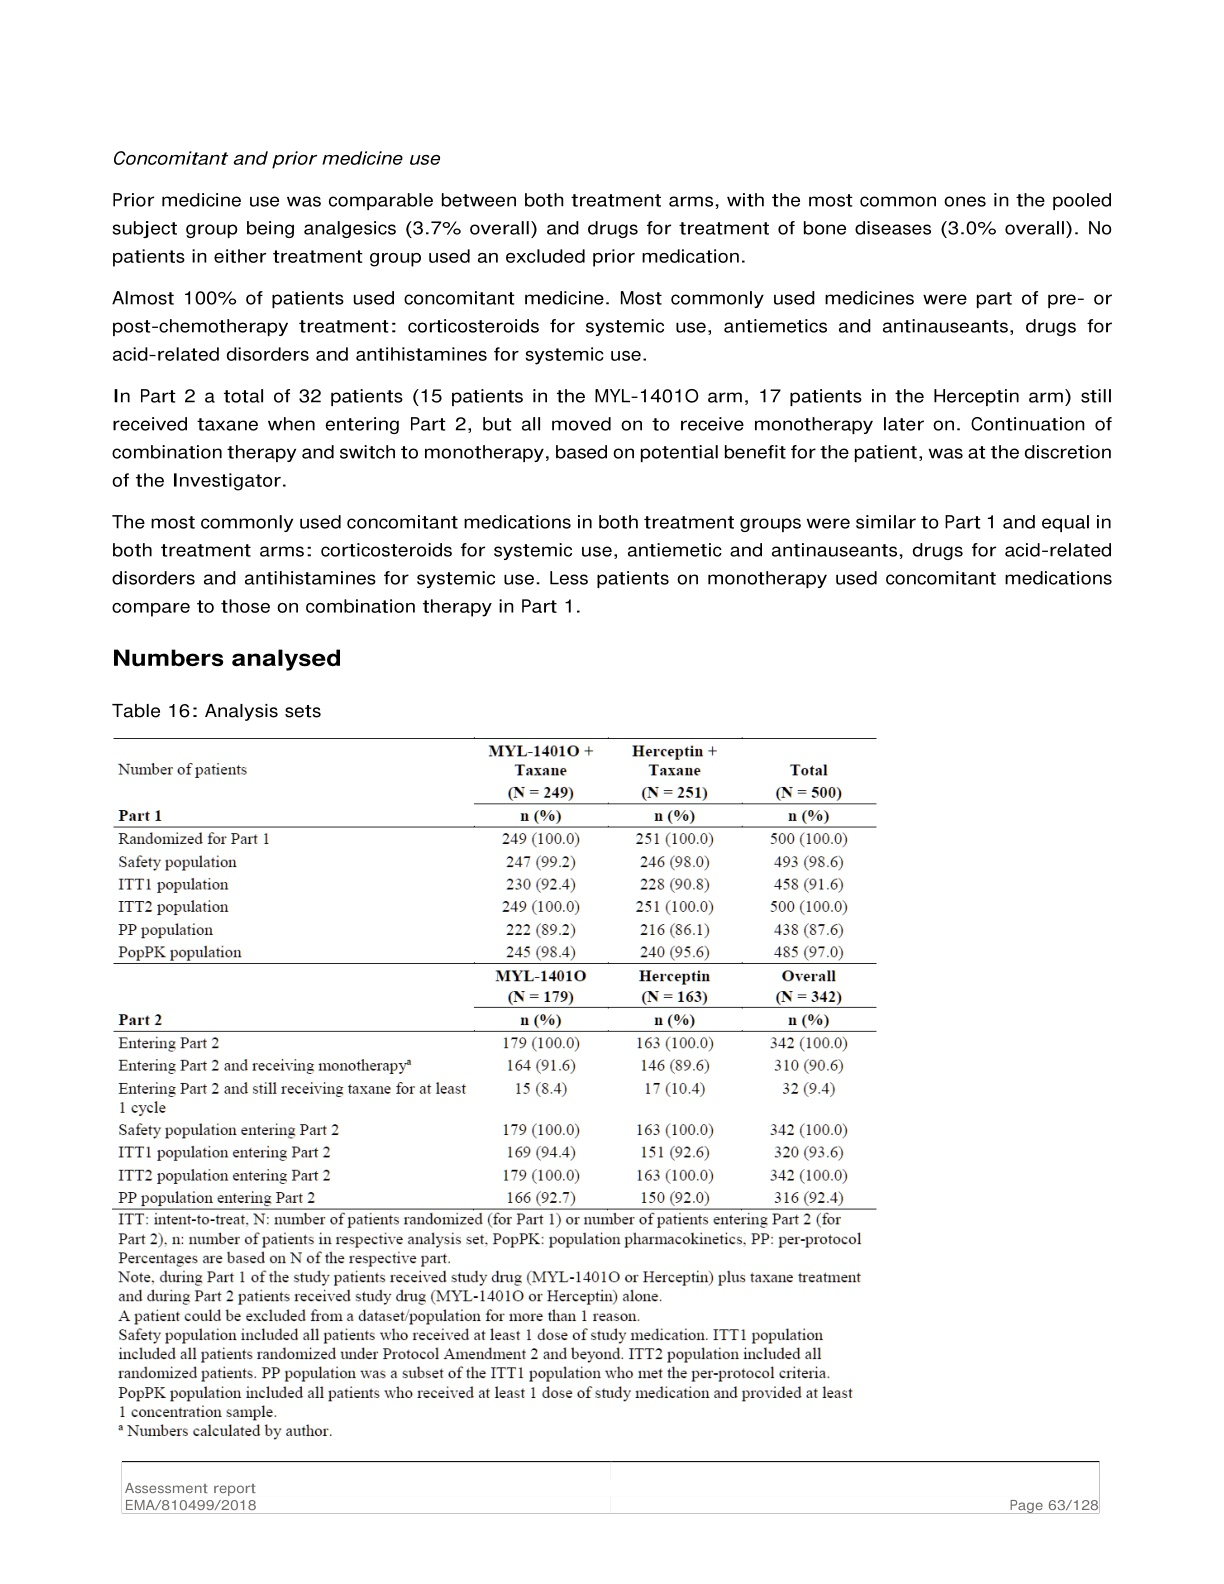partial_lined_merged_cells: (112, 735, 879, 1211)
